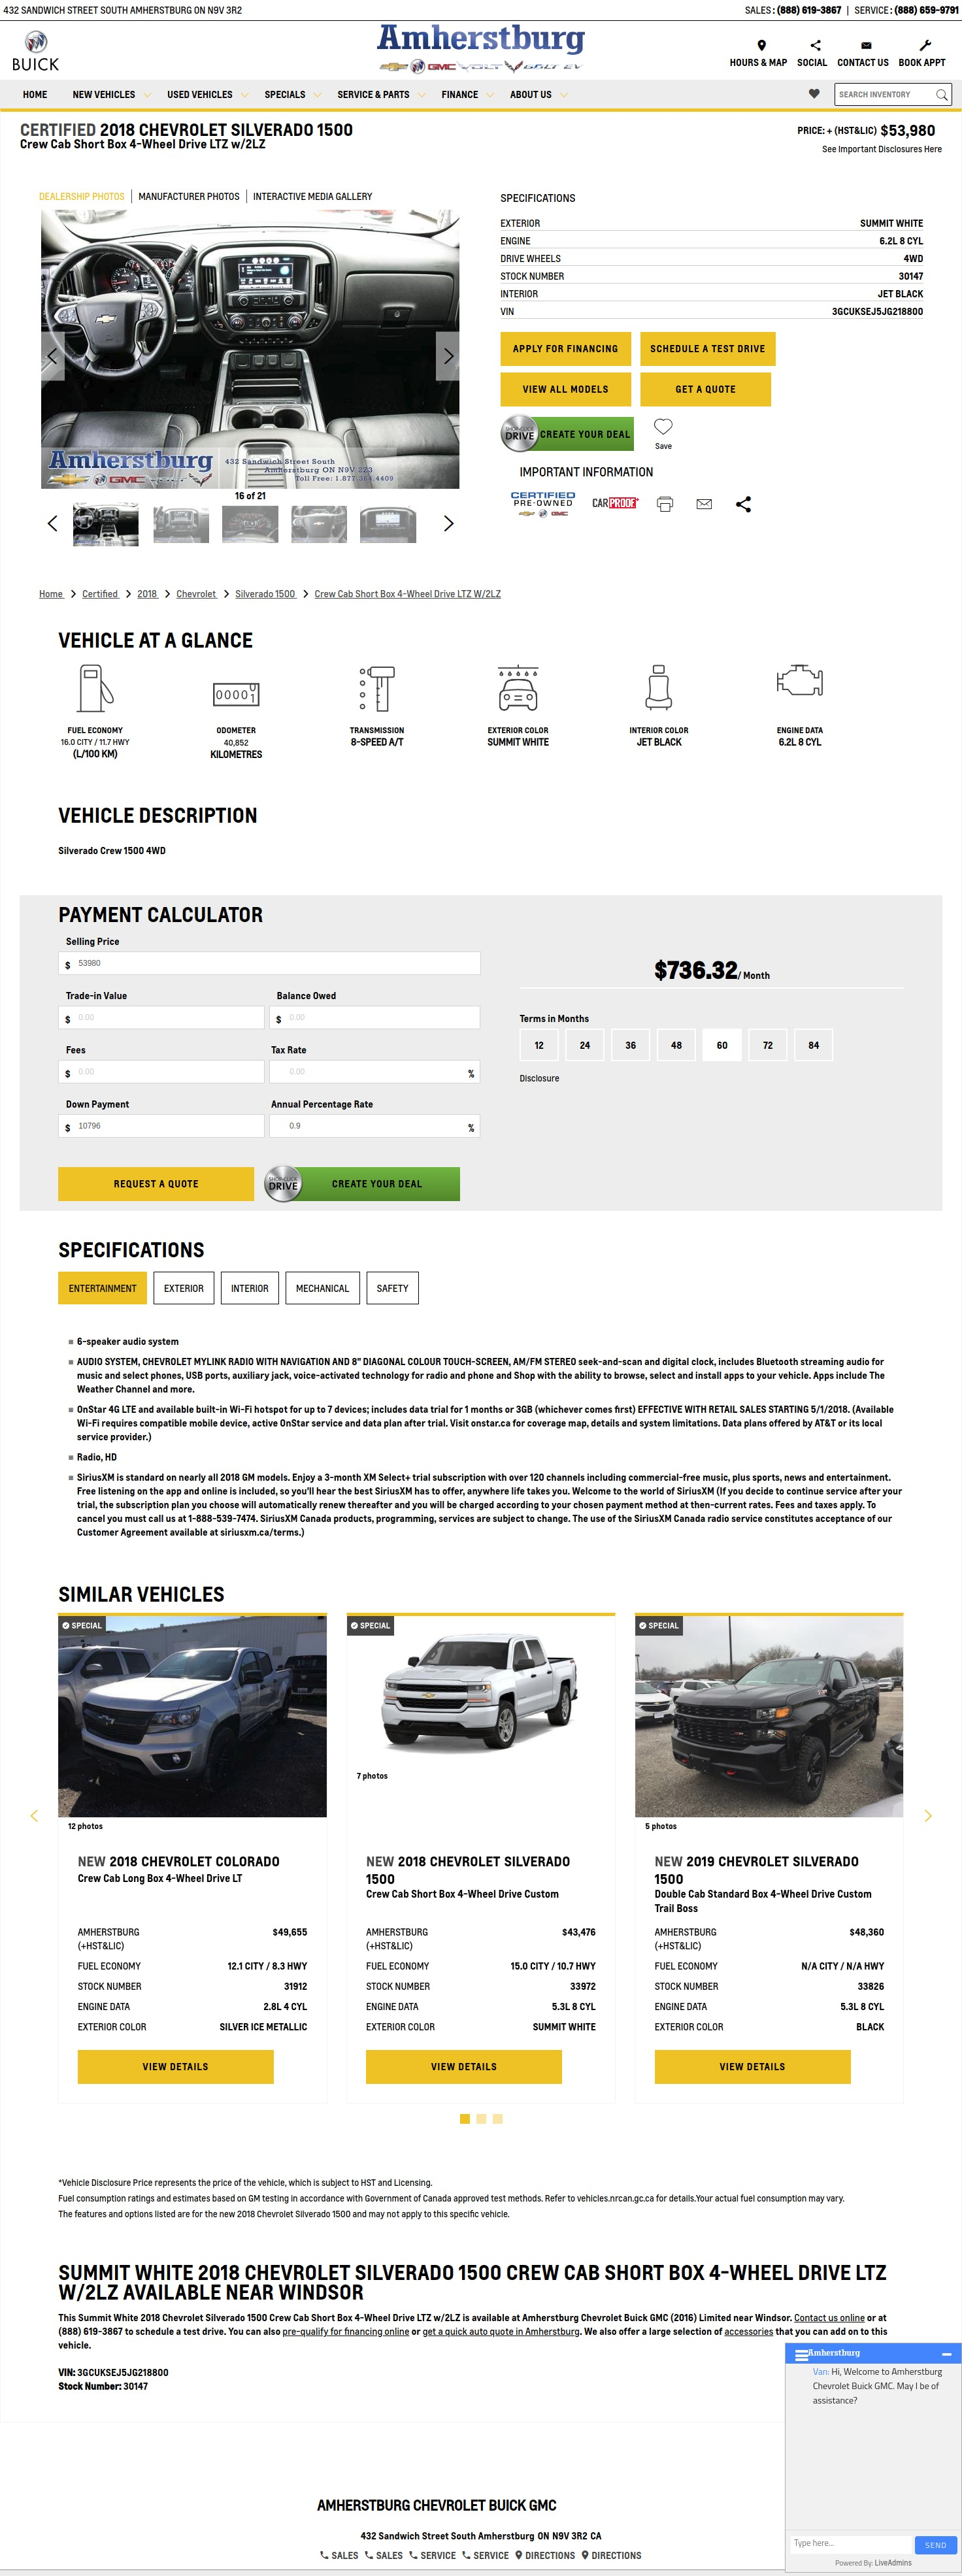car: (443, 514, 456, 534)
